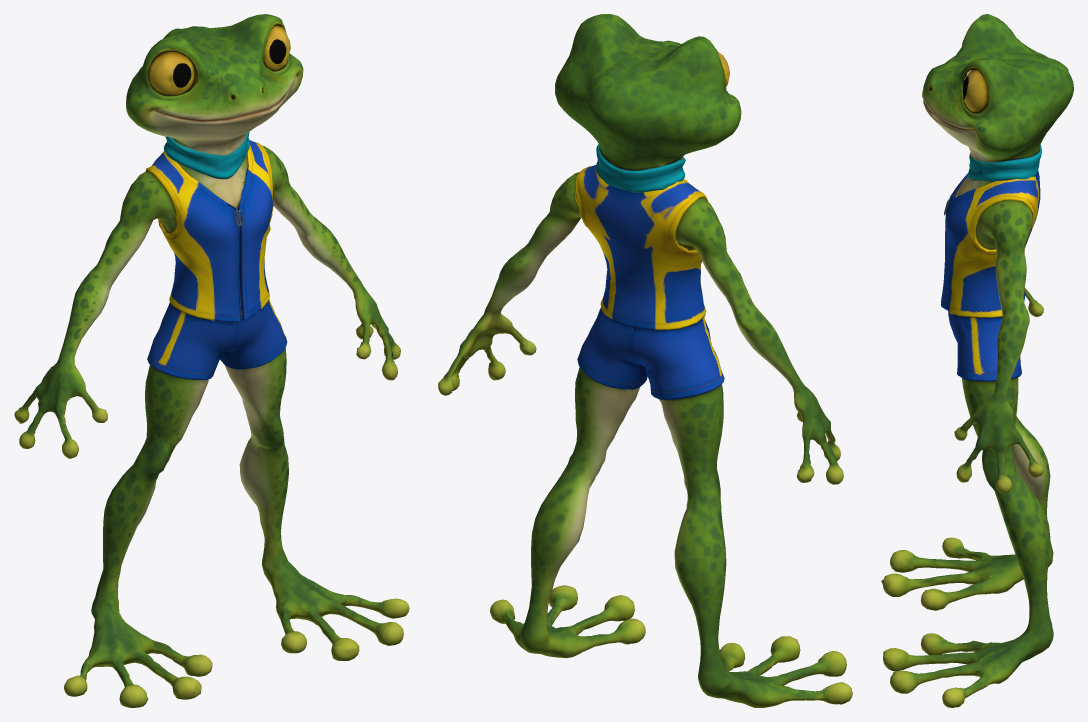
The model's file is frog.glb.
The picture shows the model from 3 angles, left to right: view 1: azimuth 30°, elevation 25°; view 2: azimuth 150°, elevation 25°; view 3: azimuth 270°, elevation 25°; orthographic projection. The views are drawn at different scales.
Parts seen in each view (by area): view 1: geometry_0; view 2: geometry_0; view 3: geometry_0.
Boxes of the visible parts, x1,y1,x2,y2 form: geometry_0: (14, 14, 409, 707); geometry_0: (438, 14, 852, 707); geometry_0: (881, 14, 1073, 707).
Bounding box in the file's own units: 0.6128 × 0.9502 × 0.2803.
1 material, 1 textured.
